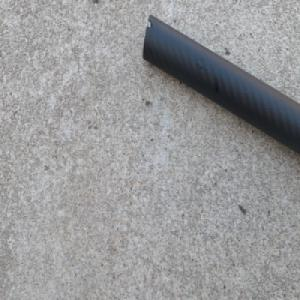LuggagePart: (141, 12, 300, 155)
